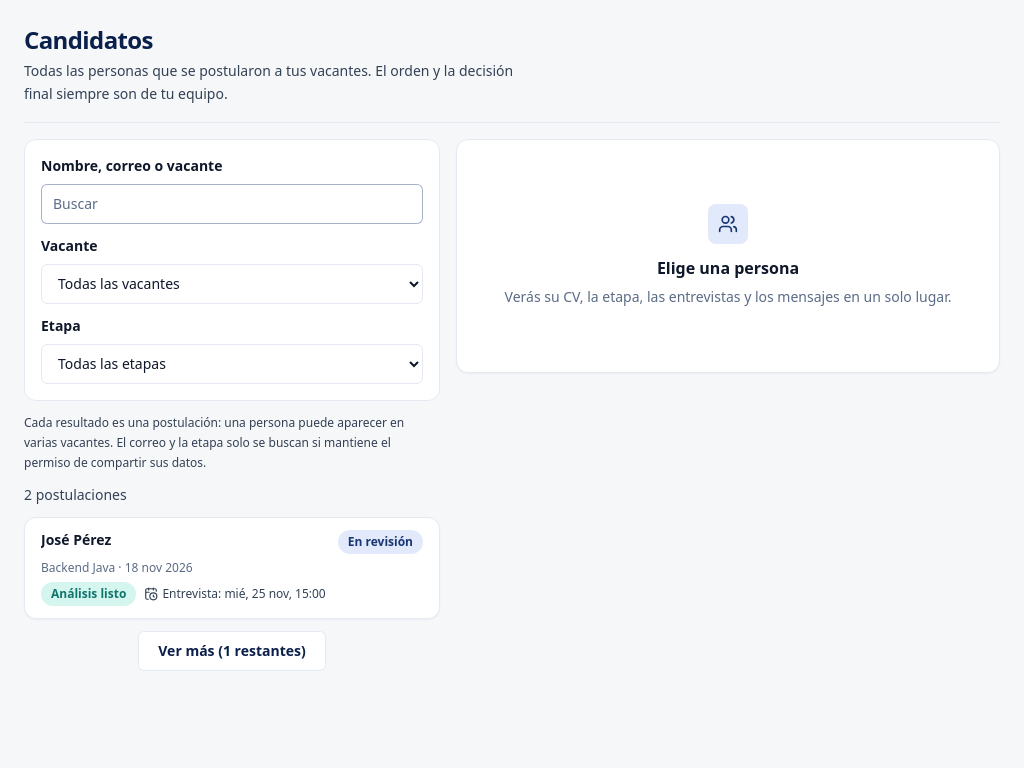
Test: CandidatesPage › ignora una página antigua si cambian los filtros durante su carga
The width and height of the screenshot is (1024, 768).
Click the button "Ver más (1 restantes)".
click(232, 650)  # box [138,630,326,670]
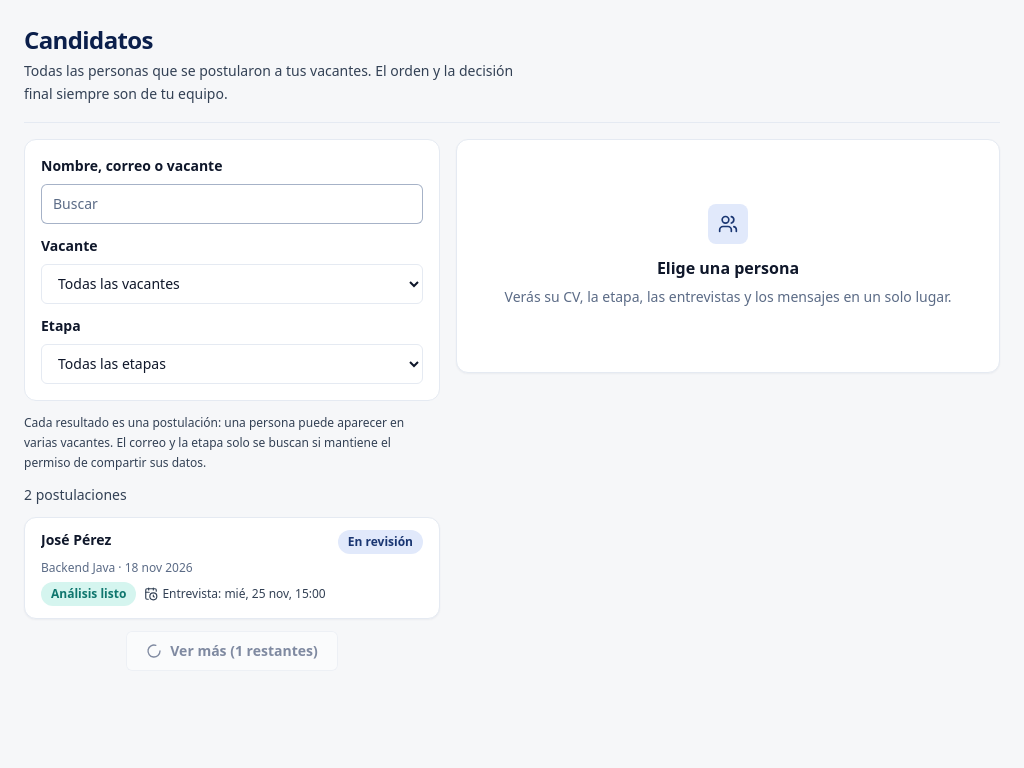
Select "Contratada" in the dropdown labelled "Etapa" at (232, 364), box [41,344,423,384]
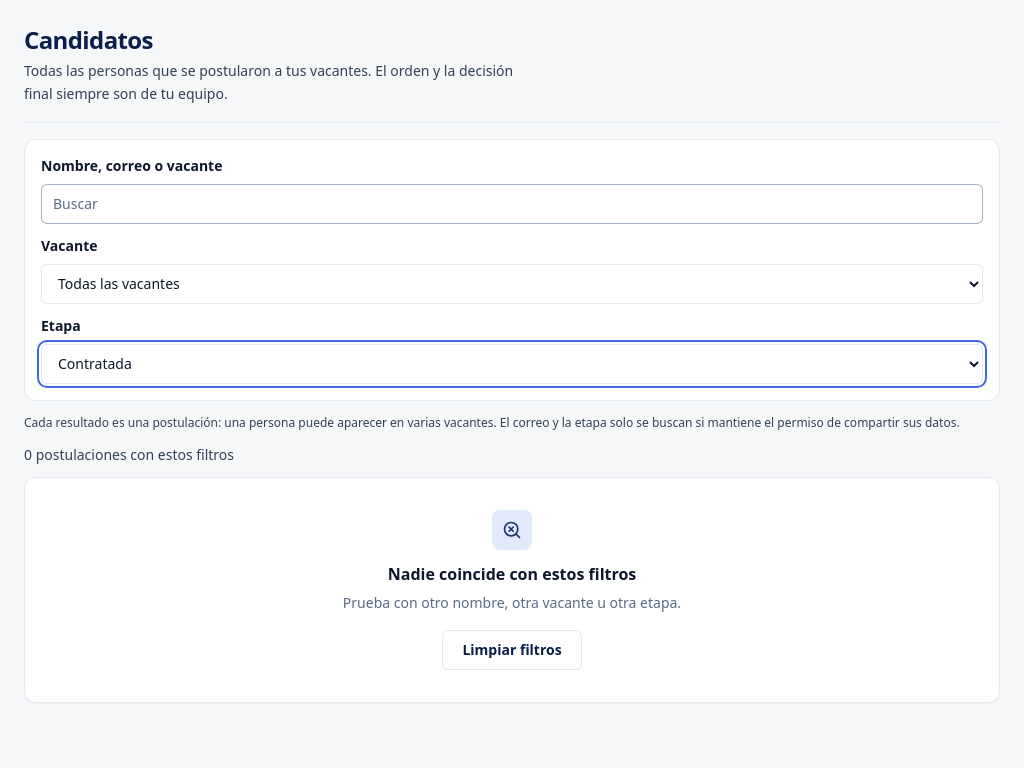
expect the heading "Nadie coincide con estos filtros" is shown: met, box [388,562,636,586]
